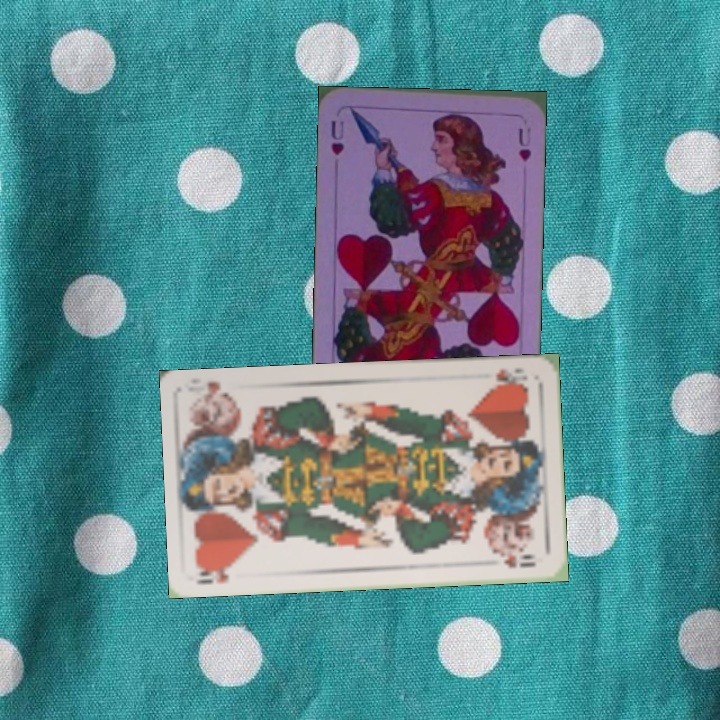HO: (193, 560, 239, 588), (491, 364, 532, 390)
HU: (327, 116, 347, 157)
